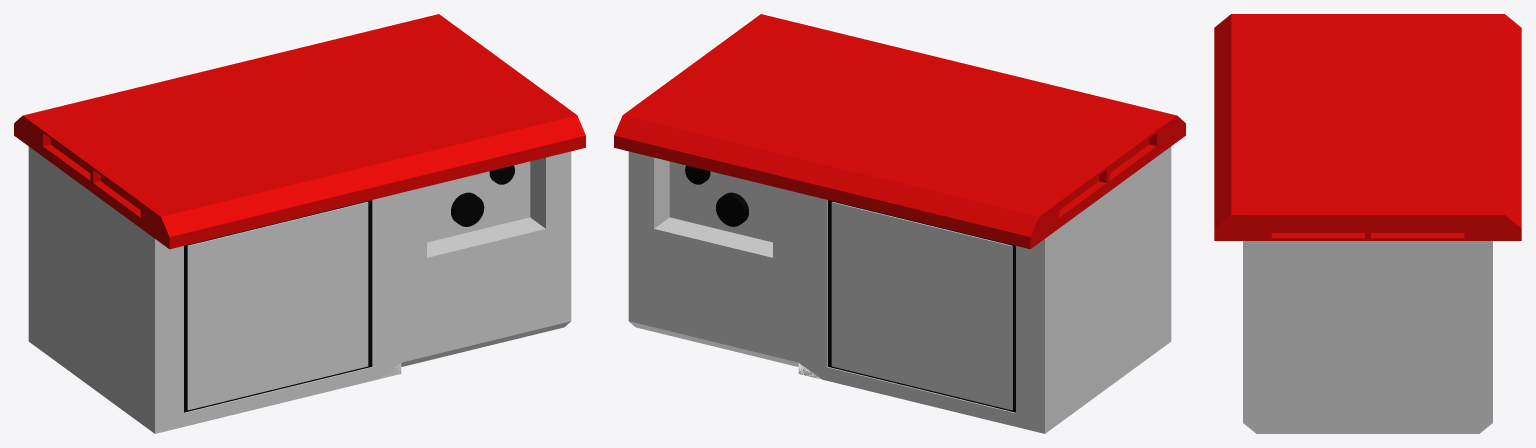
The model's file is Gerador.fbx.
3 renders of one model, left to right at view 1: azimuth 30°, elevation 25°; view 2: azimuth 150°, elevation 25°; view 3: azimuth 270°, elevation 25°, orthographic.
Visible parts, largest first — view 1: Gerador; view 2: Gerador; view 3: Gerador.
Part boxes in pixels (bbox=[...]): Gerador: bbox=[14, 14, 585, 433]; Gerador: bbox=[614, 14, 1185, 433]; Gerador: bbox=[1214, 14, 1521, 433].
Bounding box in the file's own units: 402 × 205 × 260.
